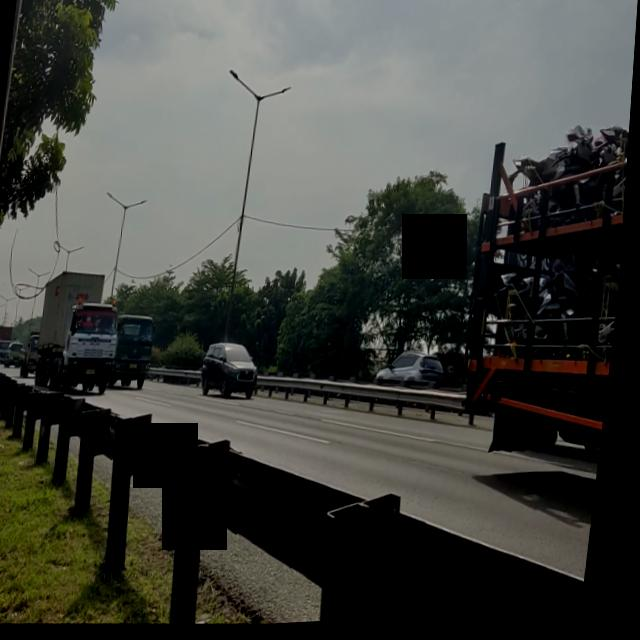Golongan I: (201, 335, 269, 409)
